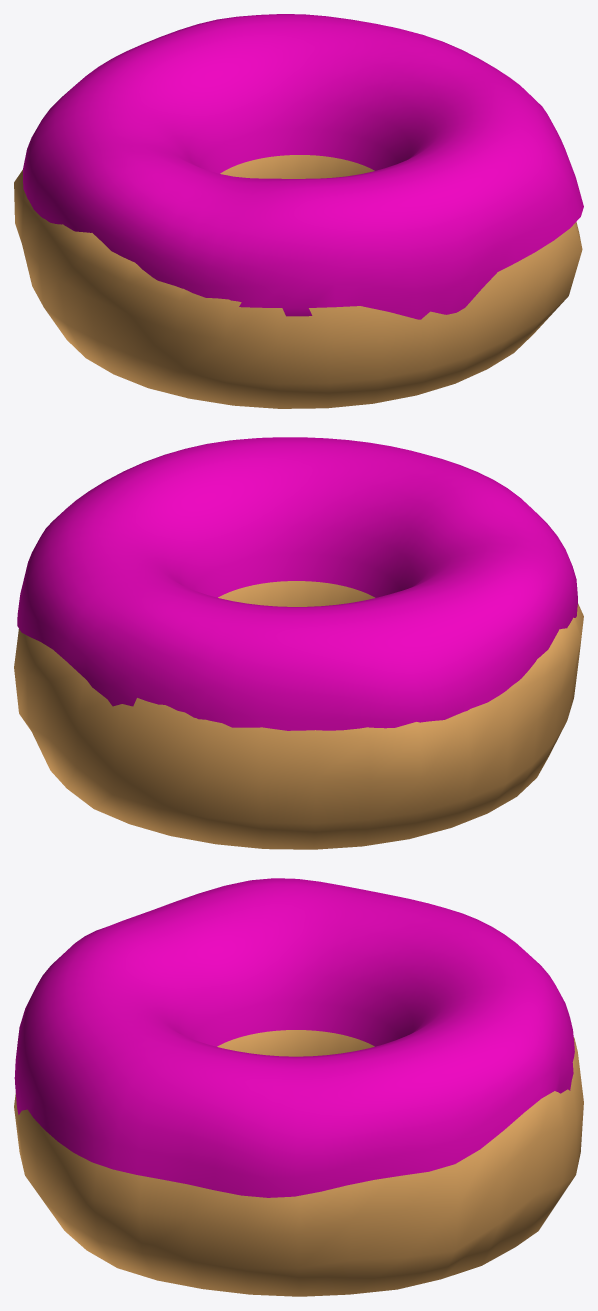
Rendered from donut.gltf.
3 renders of one model, top to bottom at view 1: azimuth 30°, elevation 25°; view 2: azimuth 150°, elevation 25°; view 3: azimuth 270°, elevation 25°, orthographic. The views are drawn at different scales.
Parts seen in each view (by area): view 1: Icing, Donut; view 2: Icing, Donut; view 3: Icing, Donut.
Part boxes in pixels (left/top/right/bottom): Icing: left=23, top=14, right=583, bottom=319; Donut: left=14, top=155, right=582, bottom=408; Icing: left=17, top=437, right=577, bottom=730; Donut: left=14, top=581, right=583, bottom=849; Icing: left=14, top=878, right=574, bottom=1197; Donut: left=14, top=1030, right=583, bottom=1296.
Size of the model in its own units: 5.05 by 2.21 by 4.97.
